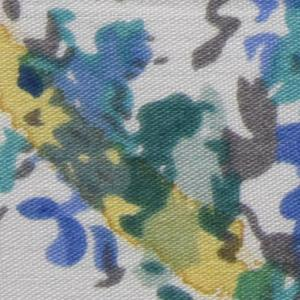Oil Stain: (1, 22, 278, 300)
